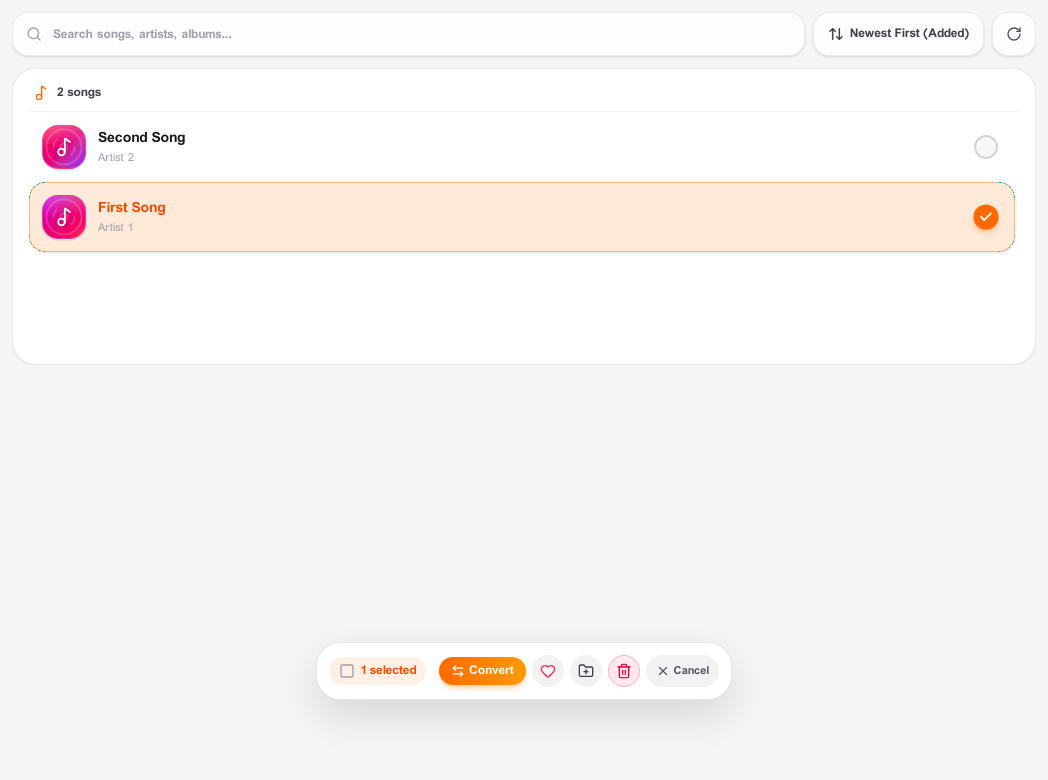
Test: Multi-Select Mode in Music Player › enters multi-select mode and toggles selection on click
Expected: the text "1 selected" is shown, [361,663,416,679]
# Clicking second track adds it to selection
Step 1. Click the text "Second Song" → (142, 138), box [98,128,185,148]
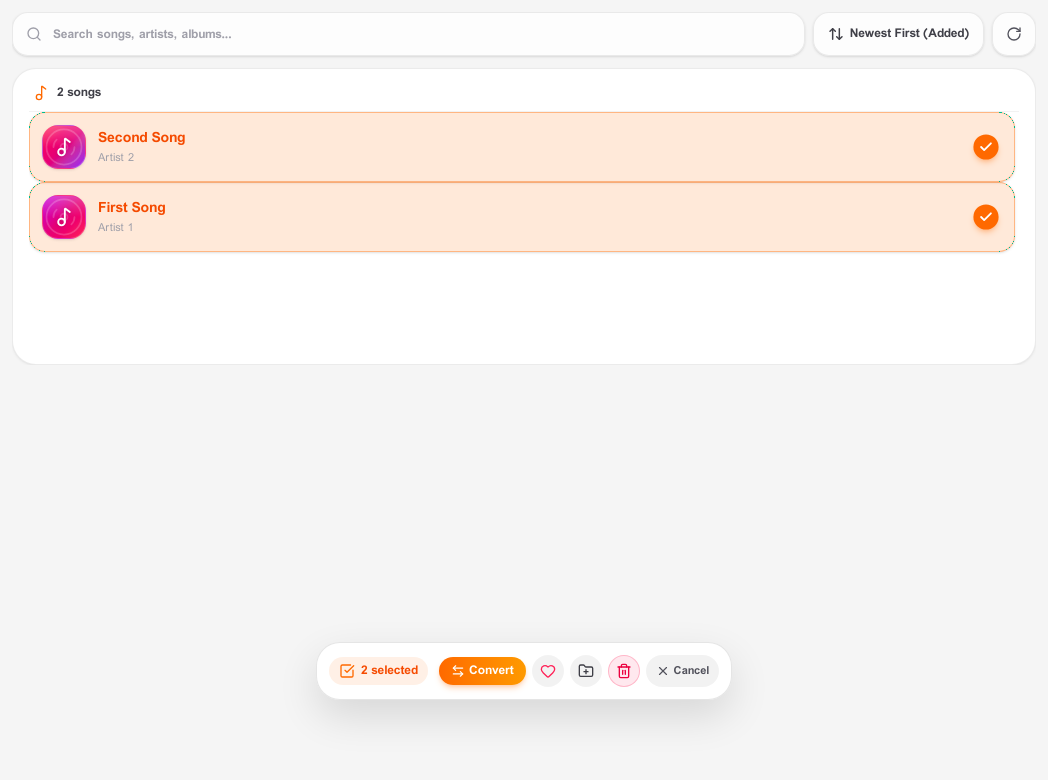
Result: the text "2 selected" is shown at [361,663,418,679]
